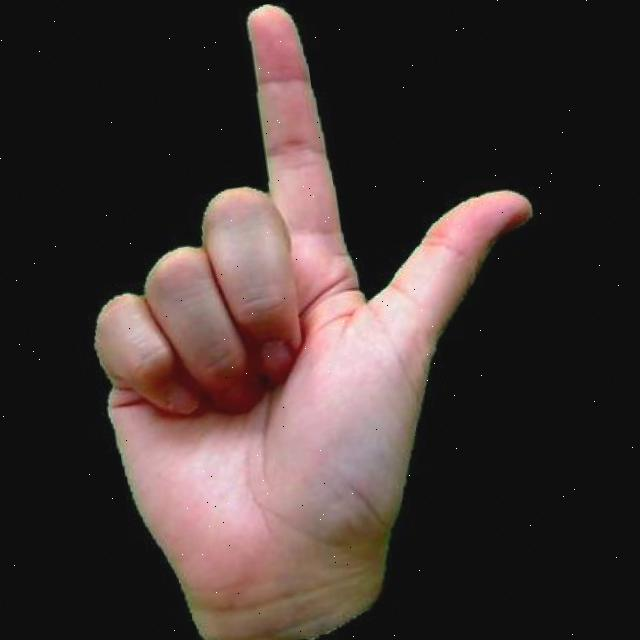l: (31, 0, 603, 640)
